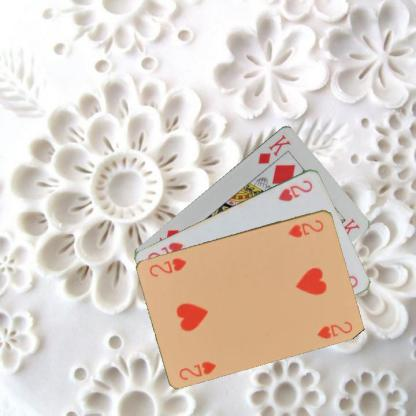2h: (276, 177, 314, 203), (177, 358, 218, 381), (286, 216, 325, 238)
Kd: (255, 132, 292, 165)
